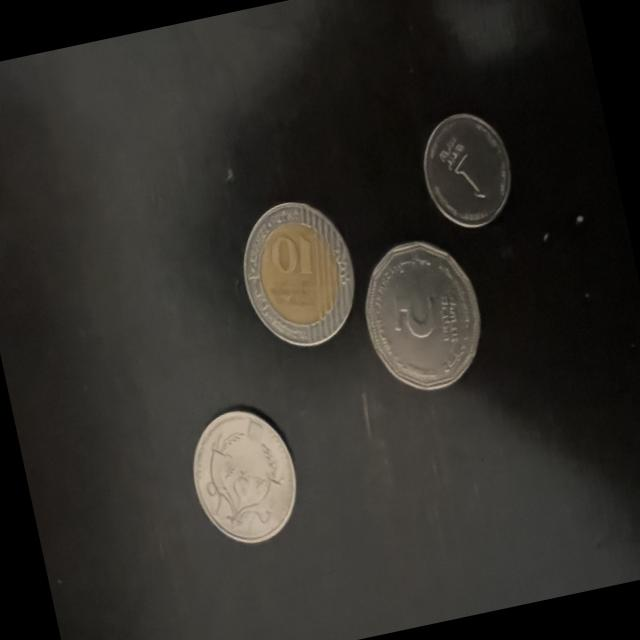1-shekel: (408, 105, 529, 238)
10-shekel: (227, 186, 371, 374)
2-shekel: (182, 398, 307, 552)
5-shekel: (347, 231, 501, 415)
